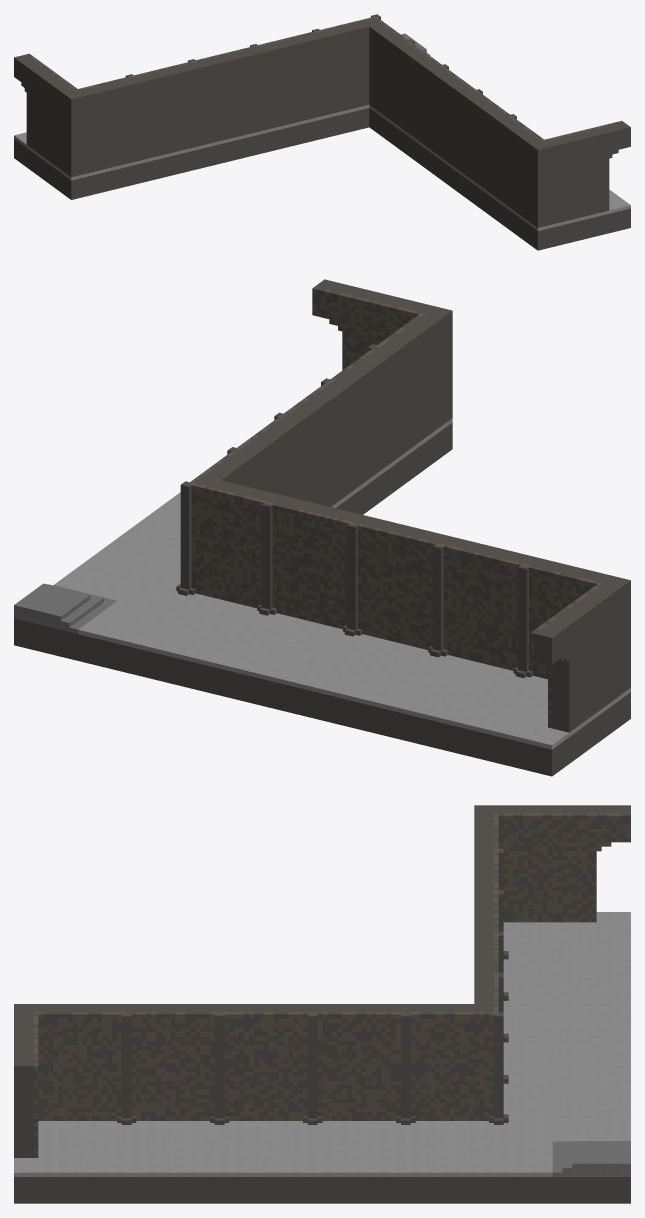
File: CrossRoom-1.obj
3 views of the same model, one above another, from view 1: azimuth 30°, elevation 25°; view 2: azimuth 150°, elevation 25°; view 3: azimuth 270°, elevation 25° (orthographic). The views are drawn at different scales.
Bounding box in the file's own units: 12.6 × 3.1 × 12.6.
